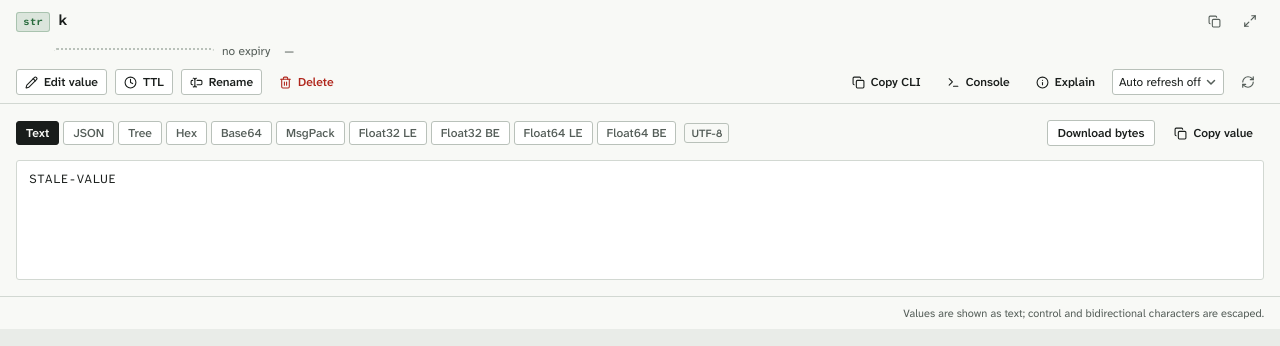
Scenario: L2: refreshing a deleted key removes the old value and mutation controls
Click the button named "Refresh key" at (1248,82), box [1232,69,1264,95]
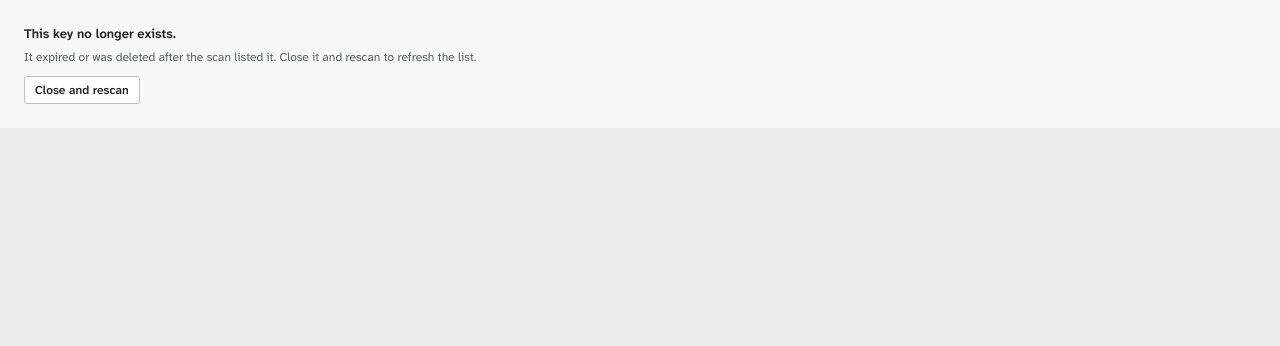
Expected: the text "This key no longer exists." is shown, [24,24,176,44]
Expected: the text "STALE-VALUE" is gone
Expected: the button with test id "key-edit" is gone
